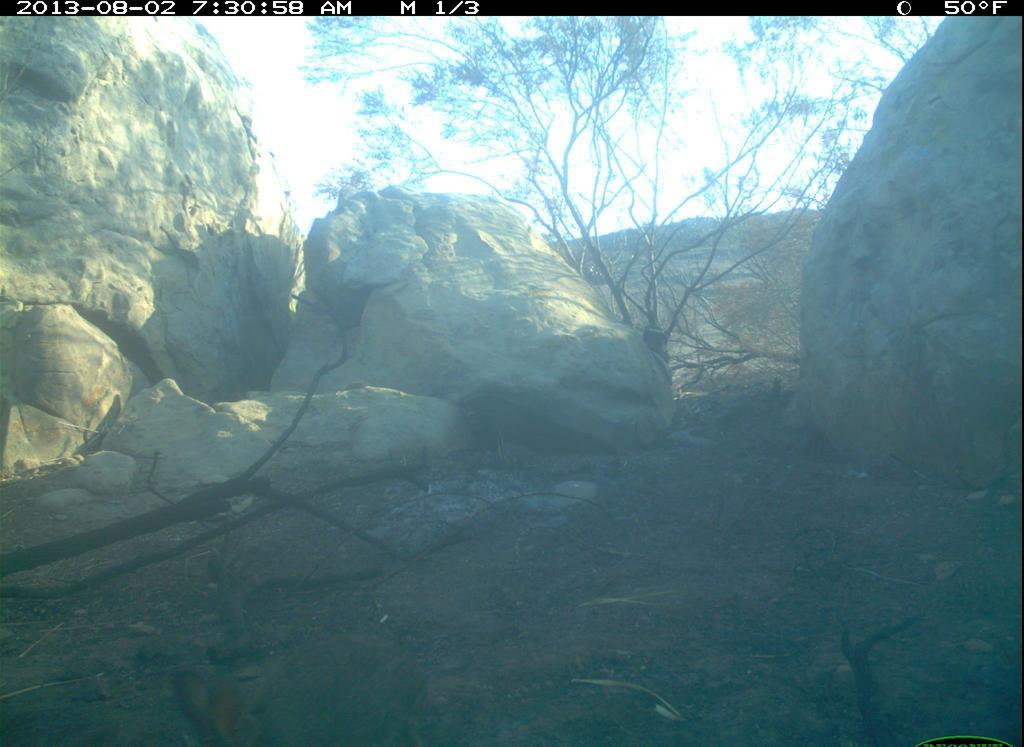rabbit: (171, 616, 446, 747)
